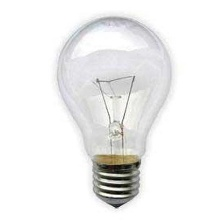light_bulb: (53, 13, 179, 215)
